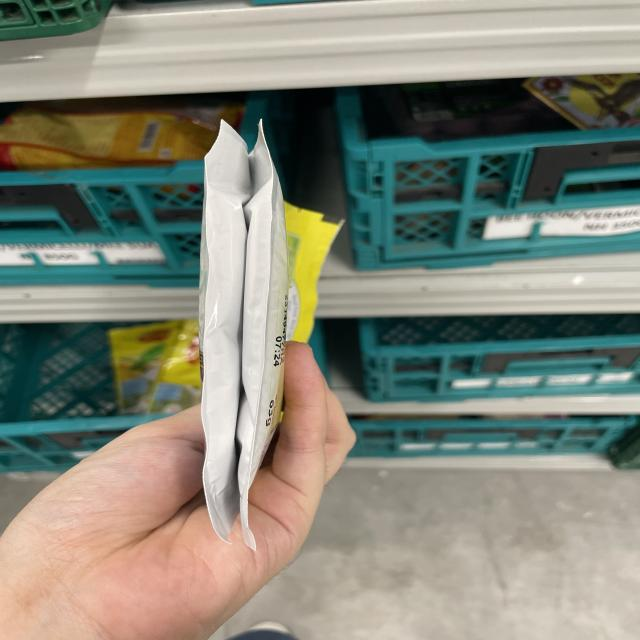object_name: (200, 138, 278, 538)
